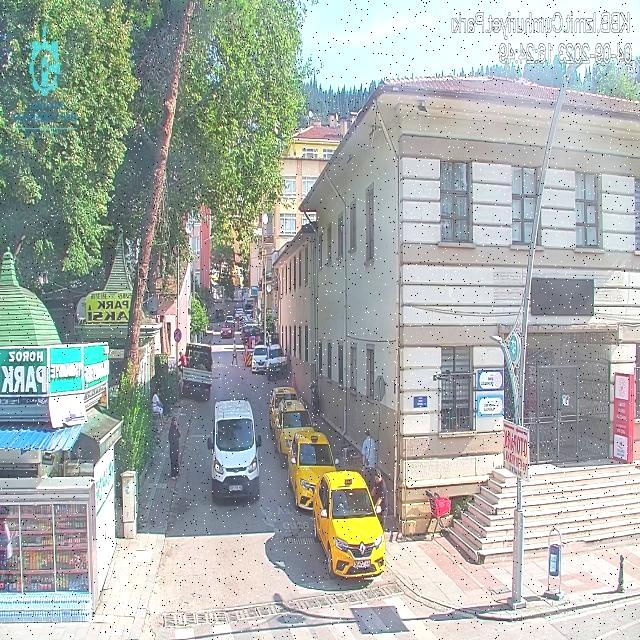Car: (313, 472, 389, 583), (288, 431, 338, 509), (277, 398, 314, 456), (266, 387, 296, 424), (267, 344, 286, 381), (252, 345, 269, 372), (213, 306, 225, 324), (222, 322, 234, 340), (240, 323, 260, 333), (224, 312, 236, 326), (241, 331, 253, 343), (234, 305, 244, 318), (238, 322, 250, 330)
Truck: (174, 339, 217, 406)
Van: (204, 394, 264, 503)
